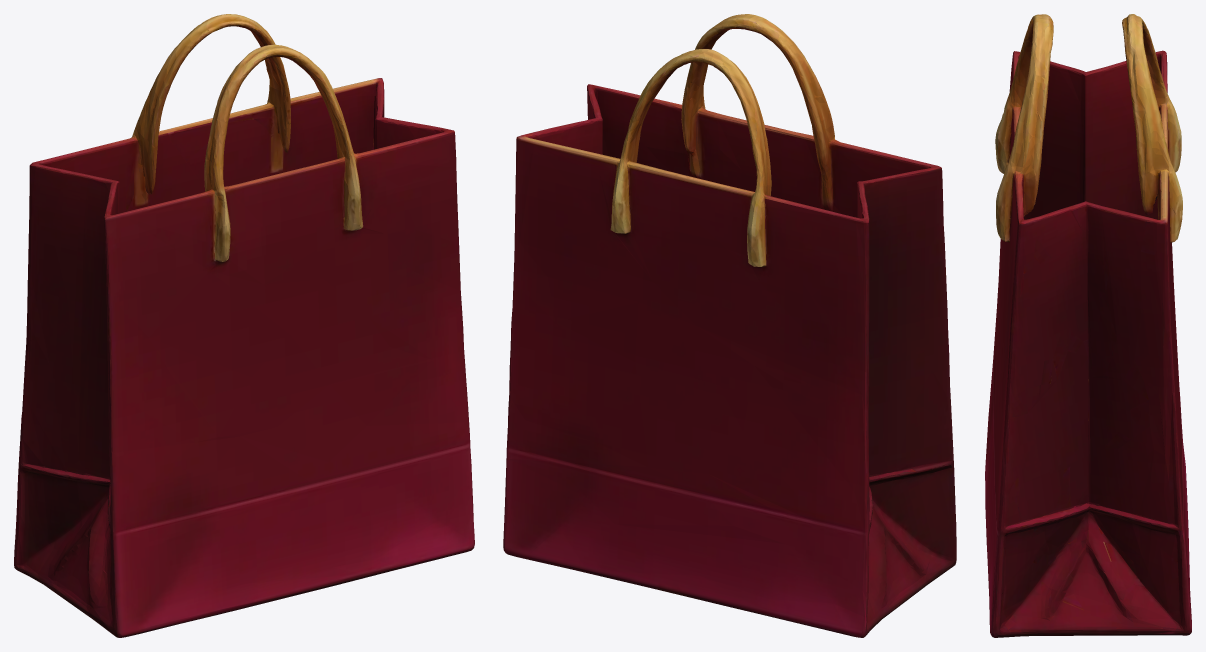
Rendered from red_shopping_bag_2.glb.
The picture shows the model from 3 angles, left to right: view 1: azimuth 30°, elevation 25°; view 2: azimuth 150°, elevation 25°; view 3: azimuth 270°, elevation 25°; orthographic projection.
Visible parts, largest first — view 1: geometry_0; view 2: geometry_0; view 3: geometry_0.
Part boxes in pixels (x1=…): geometry_0: x1=14, y1=14, x2=474, y2=637; geometry_0: x1=503, y1=14, x2=956, y2=637; geometry_0: x1=985, y1=14, x2=1191, y2=637.
Size of the model in its own units: 0.7262 by 0.9999 by 0.3523.
Materials: 1 (1 with a texture image).
